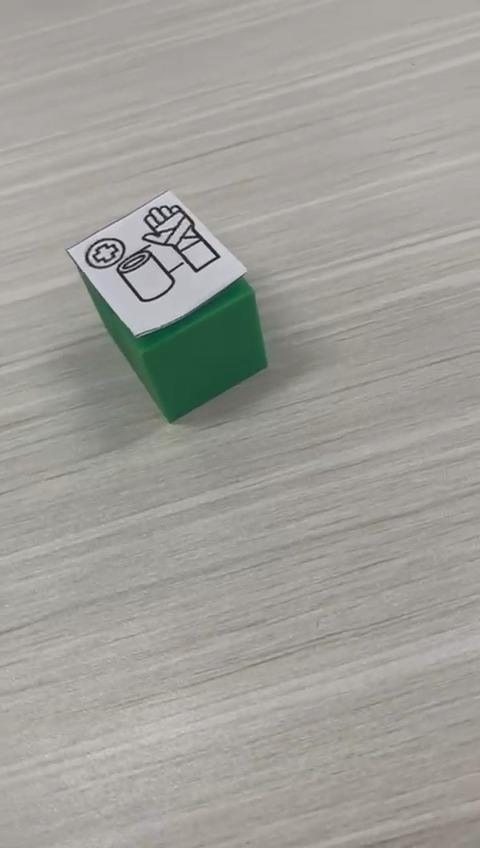Bandages: (67, 187, 268, 423)
